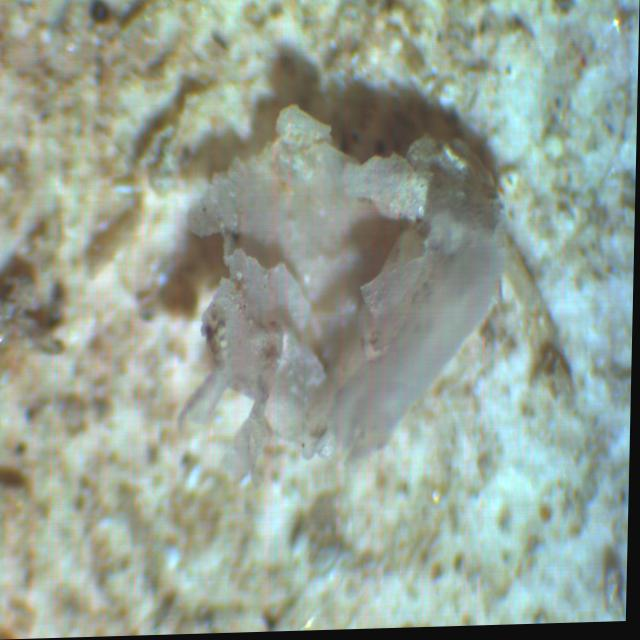microplastic: (145, 86, 528, 523)
